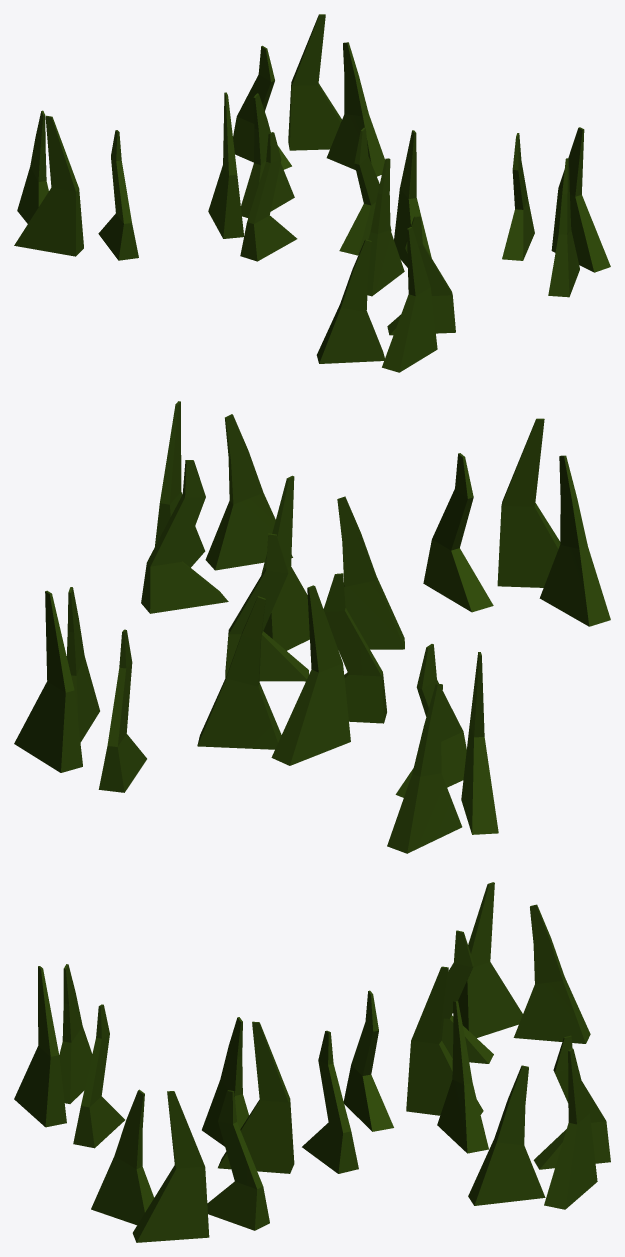
File: grass.fbx
3 views of the same model, one above another, from view 1: azimuth 30°, elevation 25°; view 2: azimuth 150°, elevation 25°; view 3: azimuth 270°, elevation 25° (orthographic). The views are drawn at different scales.
Parts seen in each view (by area): view 1: Cube_004; view 2: Cube_004; view 3: Cube_004.
Part boxes in pixels (bbox=[...]): Cube_004: bbox=[14, 14, 610, 372]; Cube_004: bbox=[14, 401, 610, 853]; Cube_004: bbox=[14, 882, 610, 1242].
Size of the model in its own units: 11.44 by 3.35 by 12.59.
1 material, 1 textured.
